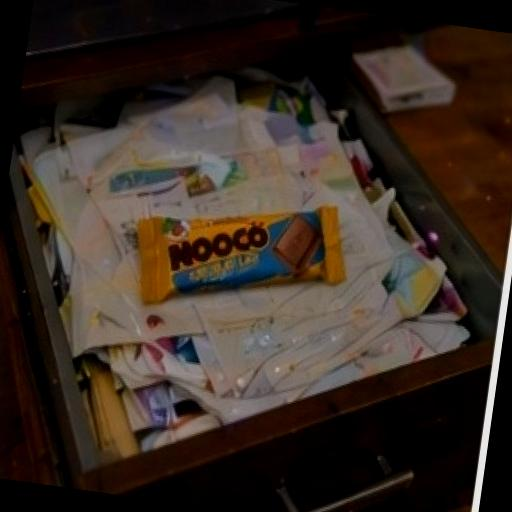nooco: (113, 158, 369, 350)
